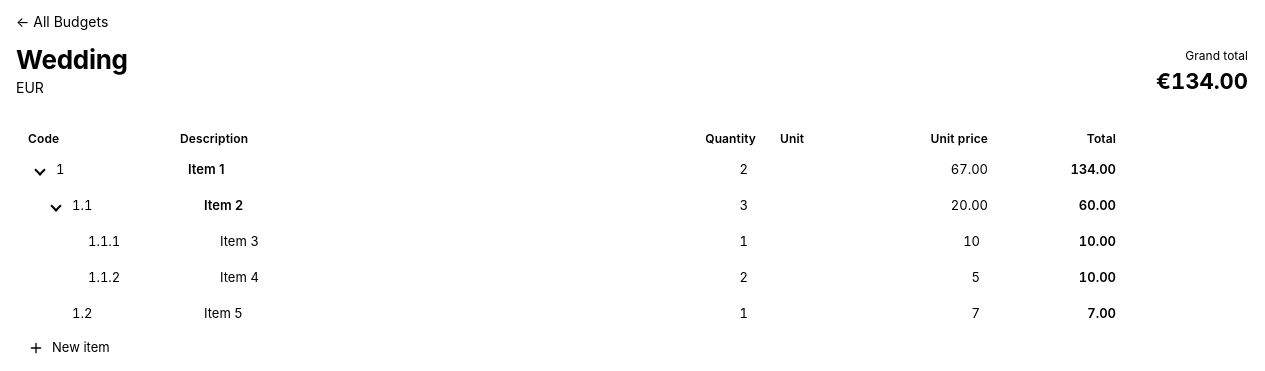
Test: inline editing › cancels an edit with Escape, restoring the committed value without touching data or history
Replace the text in the 8th field named "Quantity 1.1.1" with "99" at (716, 242), box [676, 228, 756, 256]
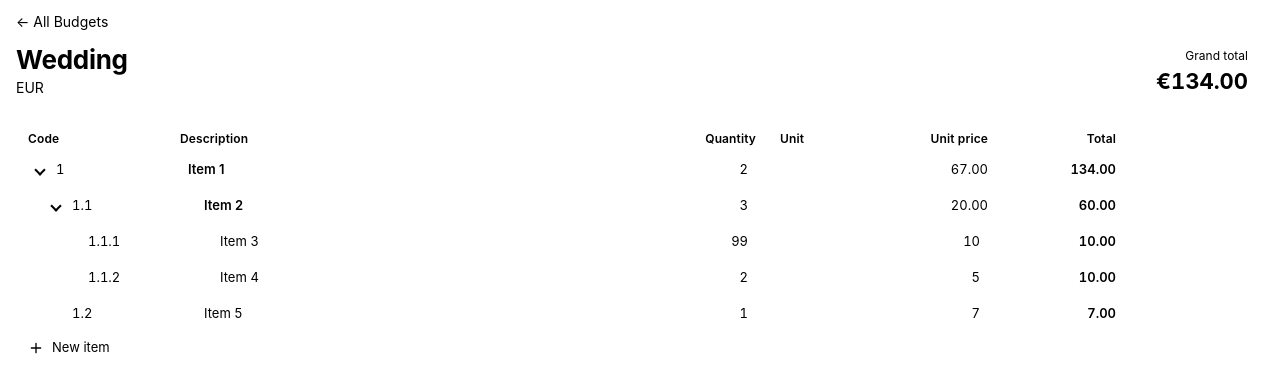
Press Escape
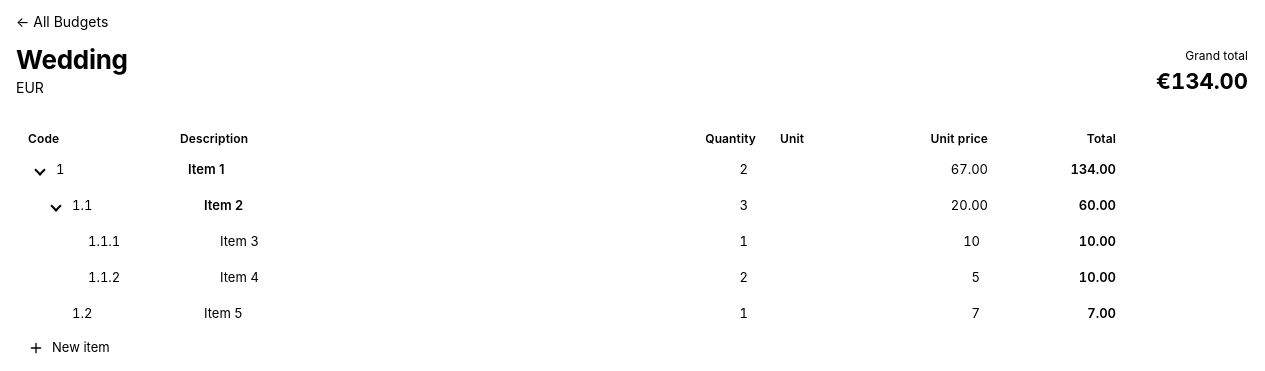
expect the text named "Grand total" reads "€134.00": met, box [1156, 68, 1248, 94]
expect the 8th field named "Quantity 1.1.1" holds "1": met, box [676, 228, 756, 256]
